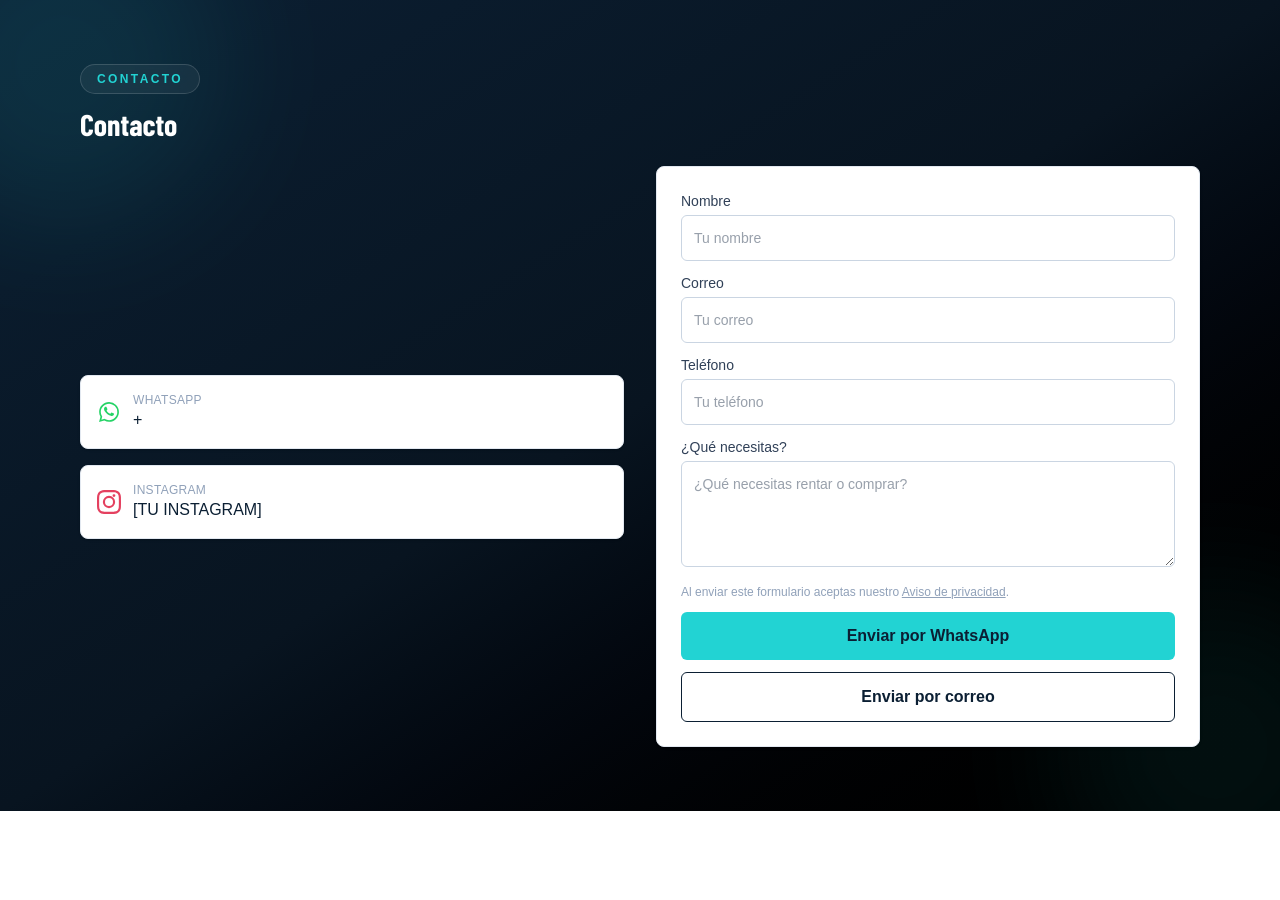
Test case: Contacto › muestra un mensaje de error si el envío del correo falla
The width and height of the screenshot is (1280, 900).
Type "Diego" into the field with placeholder "Tu nombre". click: [928, 238]
box: x1=681 y1=215 x2=1175 y2=261
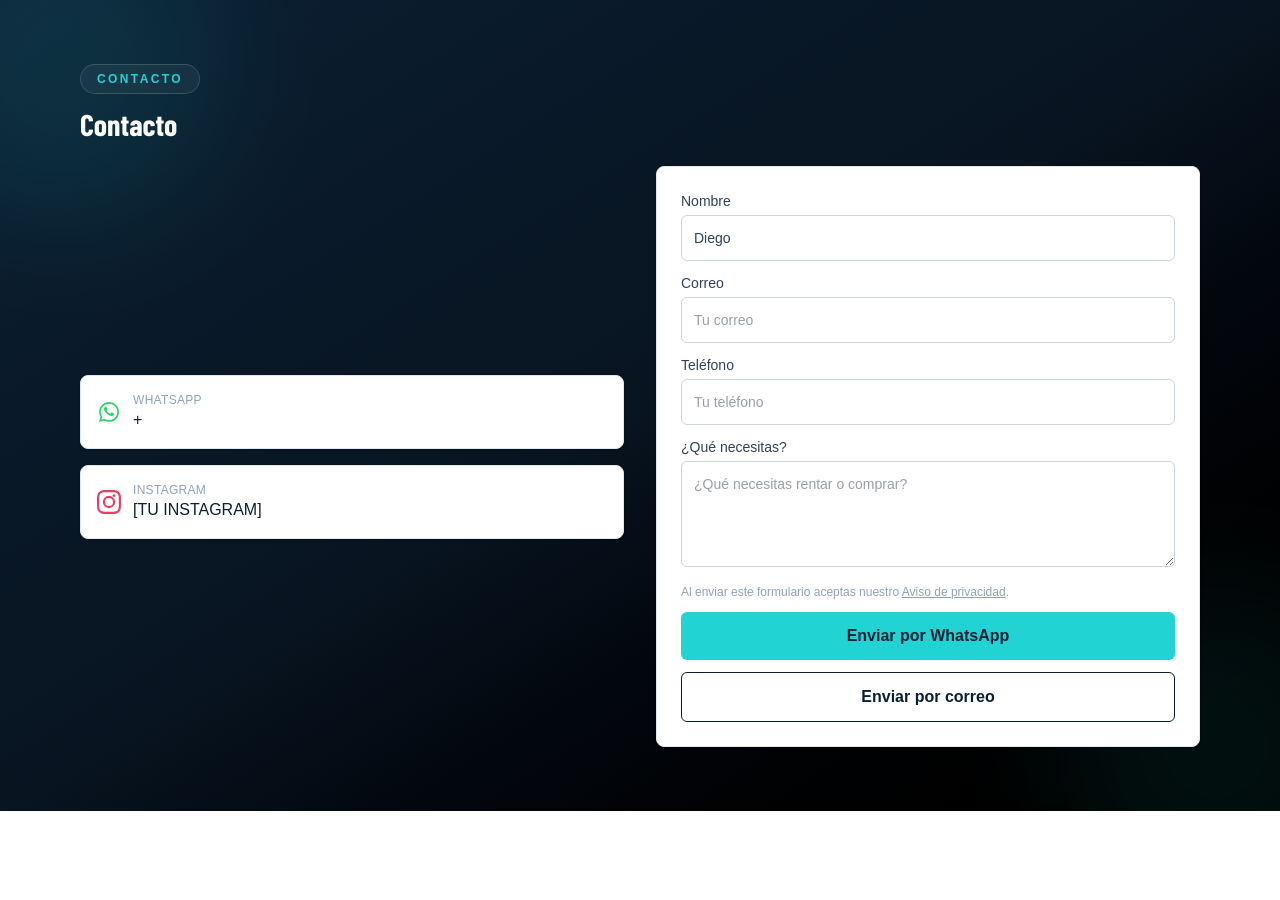
Type "diego@example.com" into the field with placeholder "Tu correo". click: [928, 320]
box: x1=681 y1=297 x2=1175 y2=343
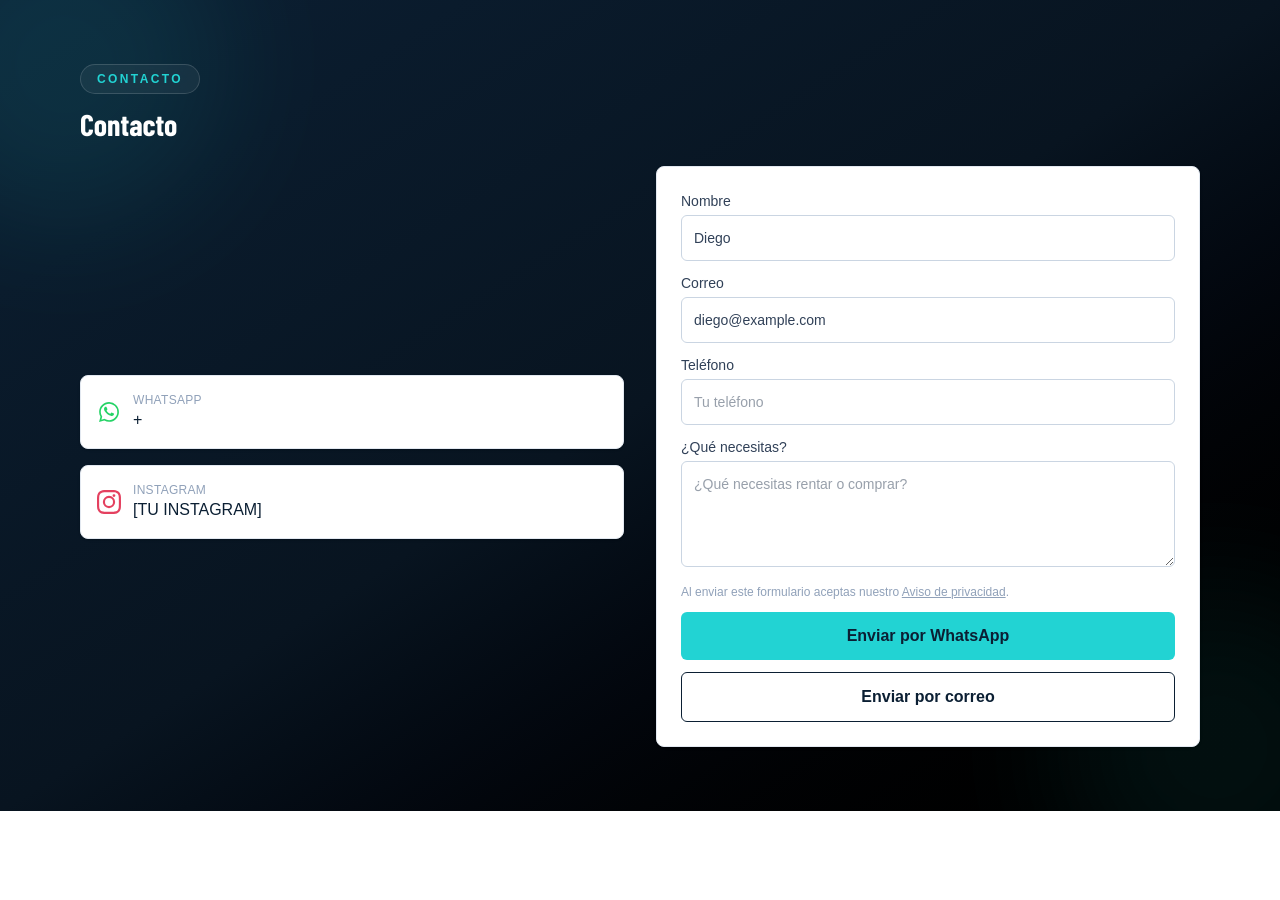
Type "3312345678" into the field with placeholder "Tu teléfono". click: [928, 402]
box: x1=681 y1=379 x2=1175 y2=425
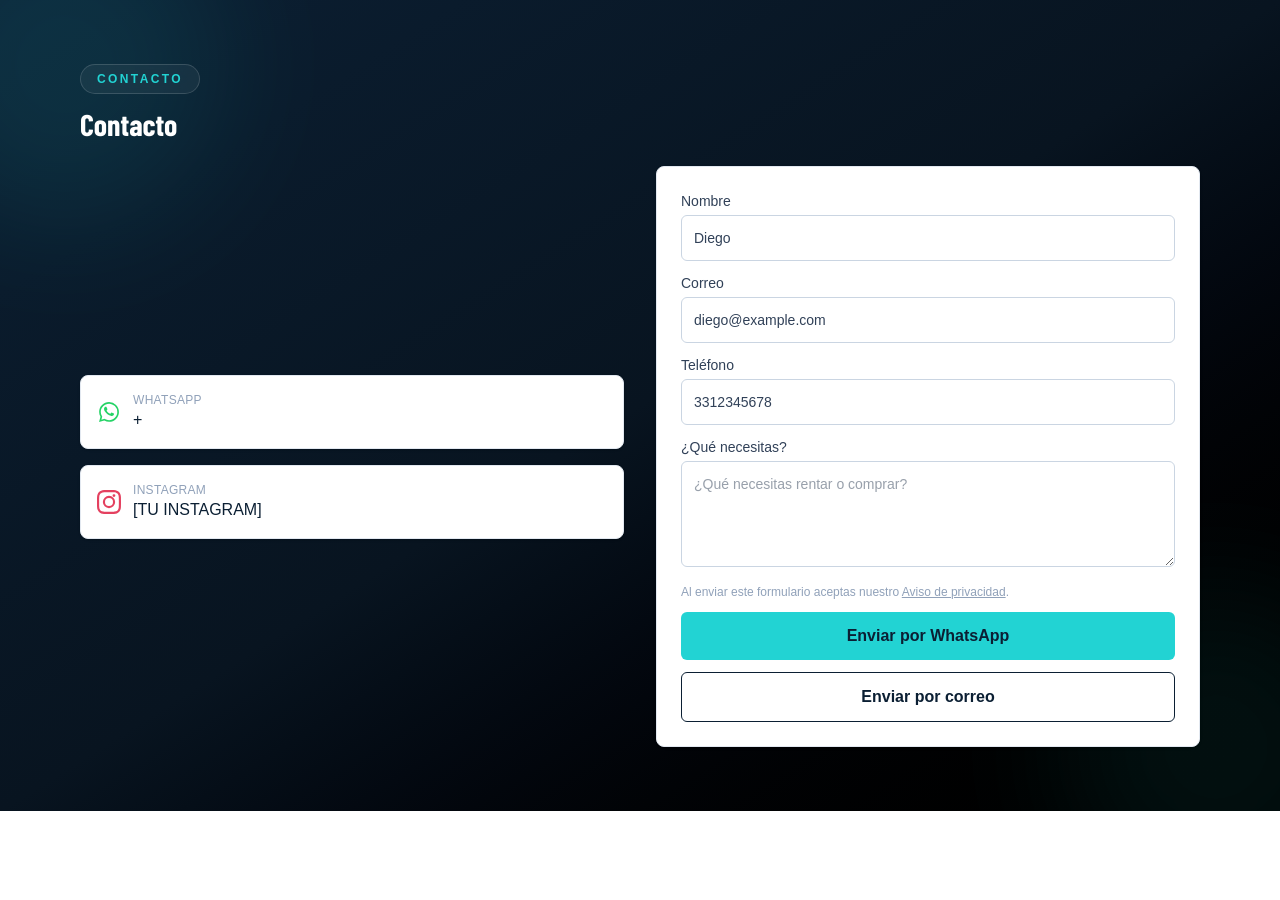
Type "2 ventiladores de piso" into the text box with placeholder "¿Qué necesitas rentar o comprar?". click: [928, 514]
box: x1=681 y1=461 x2=1175 y2=567
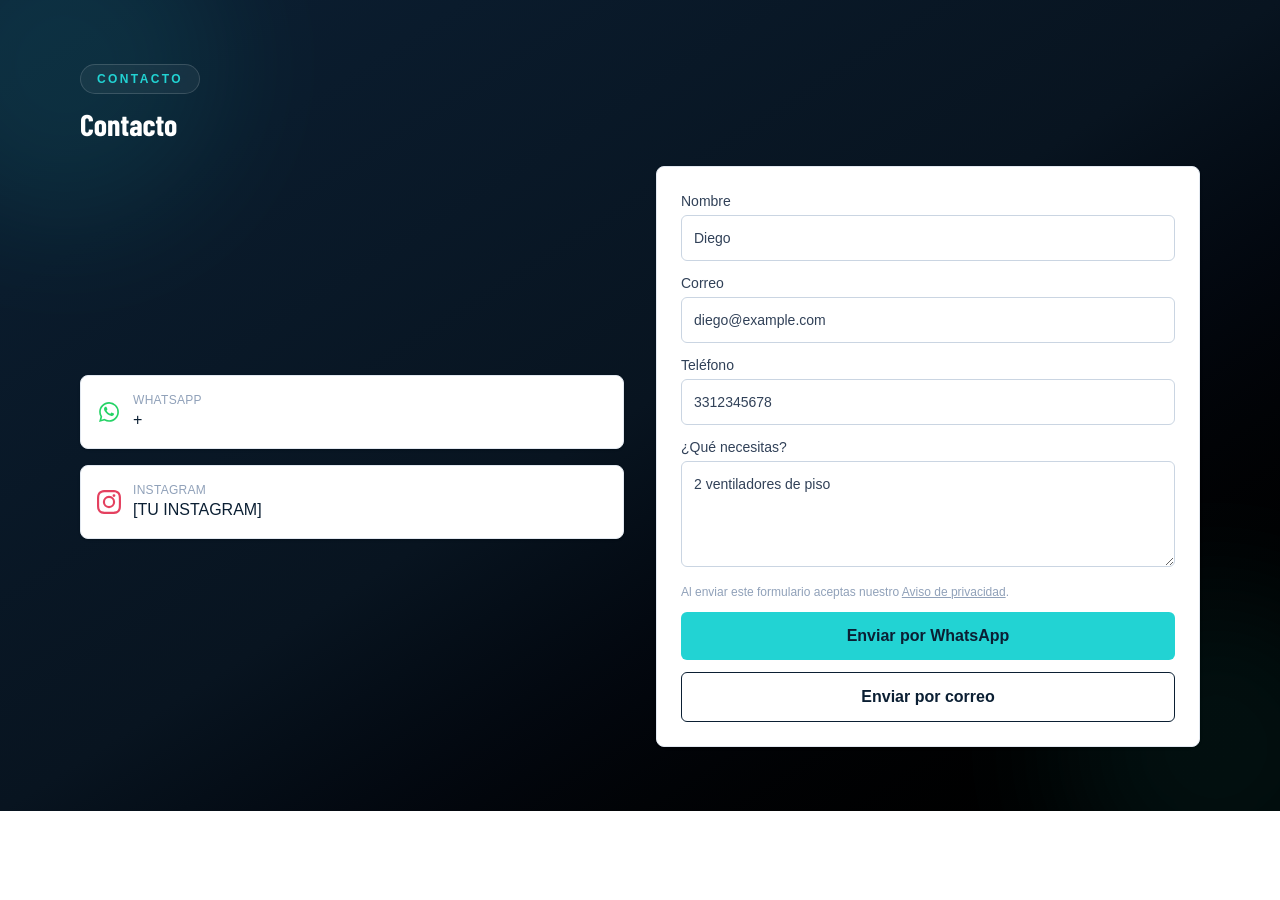
Click the button "Enviar por correo". click: [928, 697]
box: x1=681 y1=672 x2=1175 y2=722
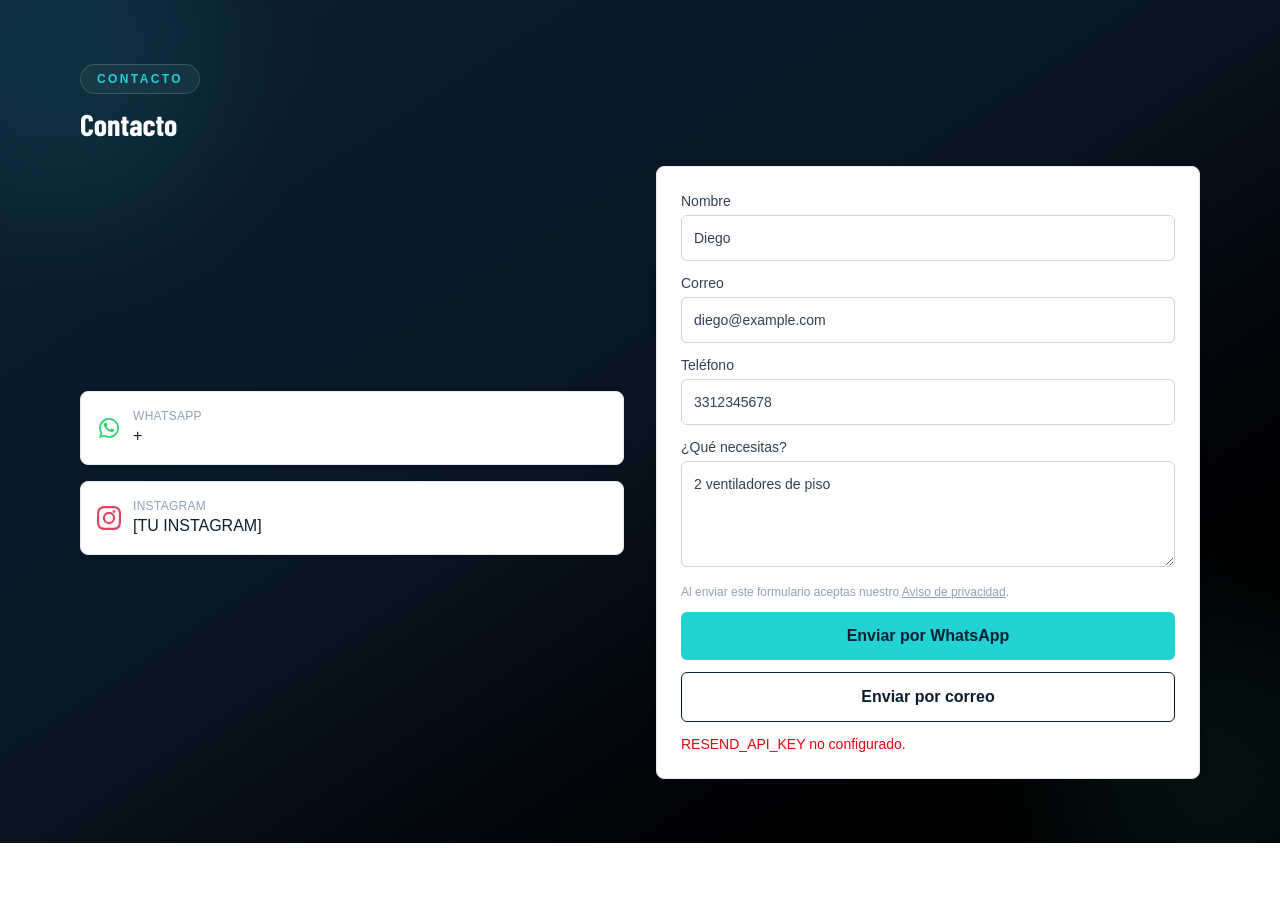
Now the message reads "RESEND_API_KEY no configurado.", box x1=681 y1=736 x2=906 y2=752
